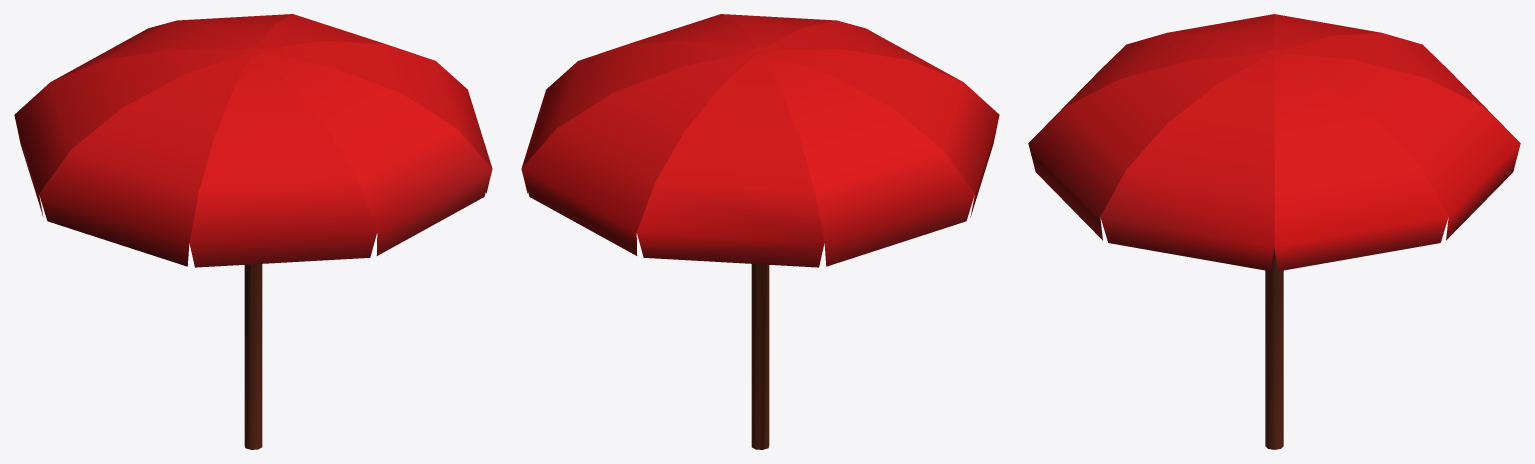
The model's file is Umberella_1_v2.0.fbx.
3 renders of one model, left to right at view 1: azimuth 30°, elevation 25°; view 2: azimuth 150°, elevation 25°; view 3: azimuth 270°, elevation 25°, orthographic.
Visible parts, largest first — view 1: polySurface1; view 2: polySurface1; view 3: polySurface1.
Boxes of the visible parts, bbox=[...] form: polySurface1: bbox=[14, 14, 492, 449]; polySurface1: bbox=[521, 14, 999, 449]; polySurface1: bbox=[1028, 14, 1520, 449].
Bounding box in the file's own units: 228 × 200 × 228.
